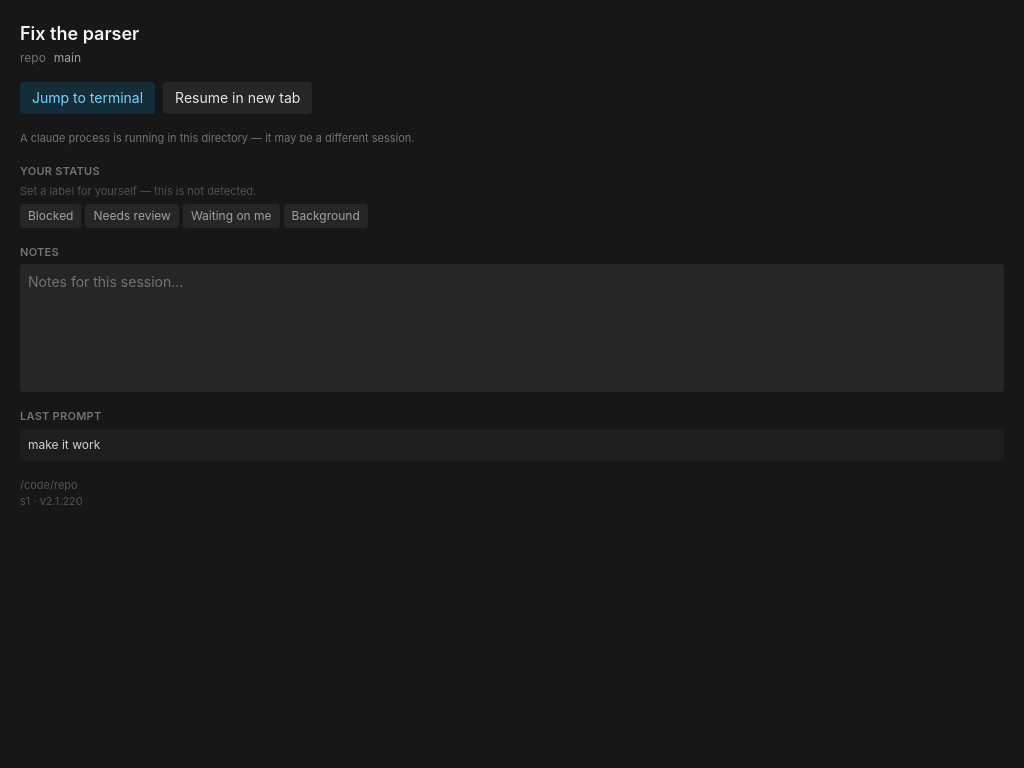
Test: SessionDetail › surfaces an error when jumping to the terminal fails
Step 1. Click the button "Jump to terminal" → click(88, 98), box [20,82,155,114]
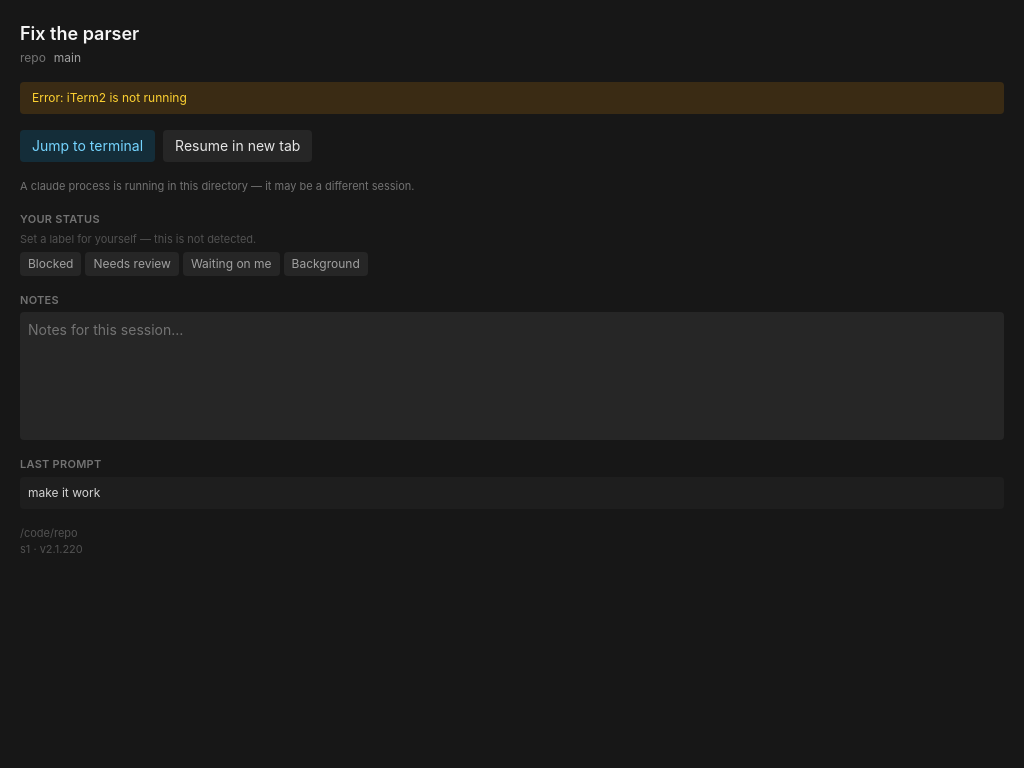
Check: the message "Error: iTerm2 is not running" is shown, box [20,82,1004,114]
